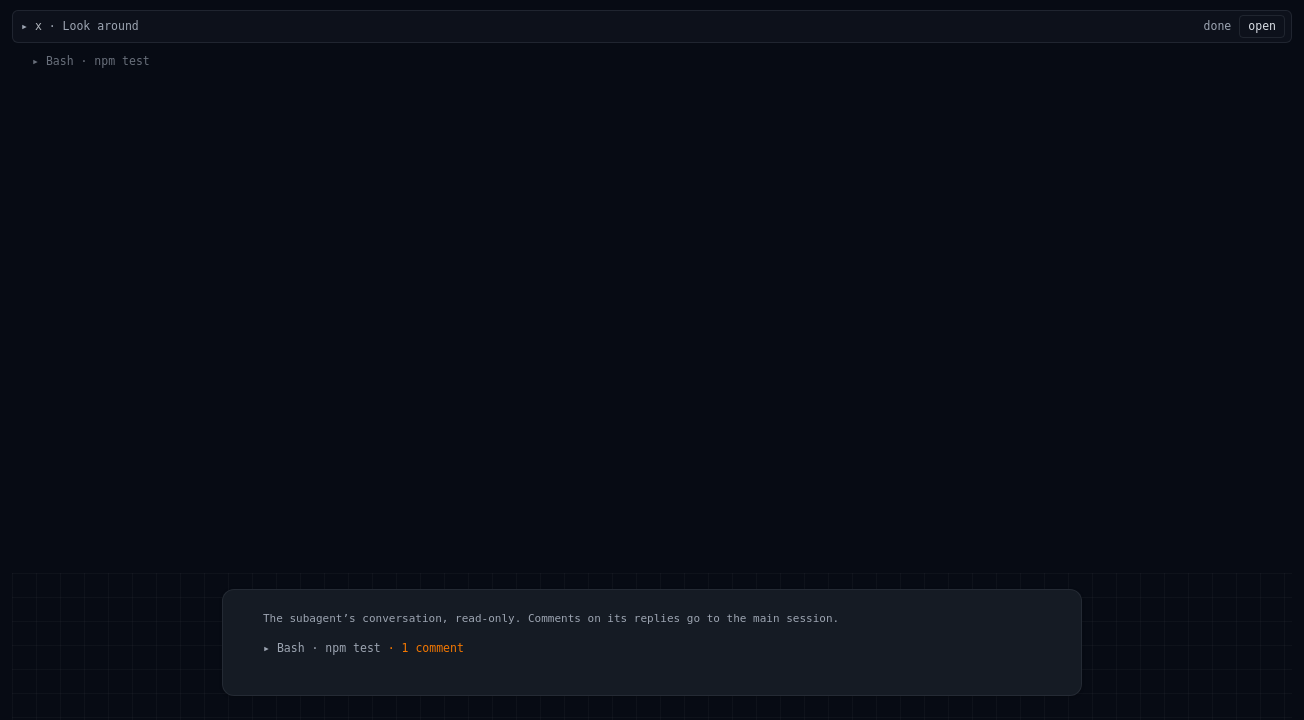
Test case: the same tool id in the chat and in the subagent tab (the SDK forwards a foreground subagent's calls into the main stream) › folding one does not fold the other
Click the button "▸ Bash · npm test · 1 comment" at (343,648), box [263,640,1041,657]
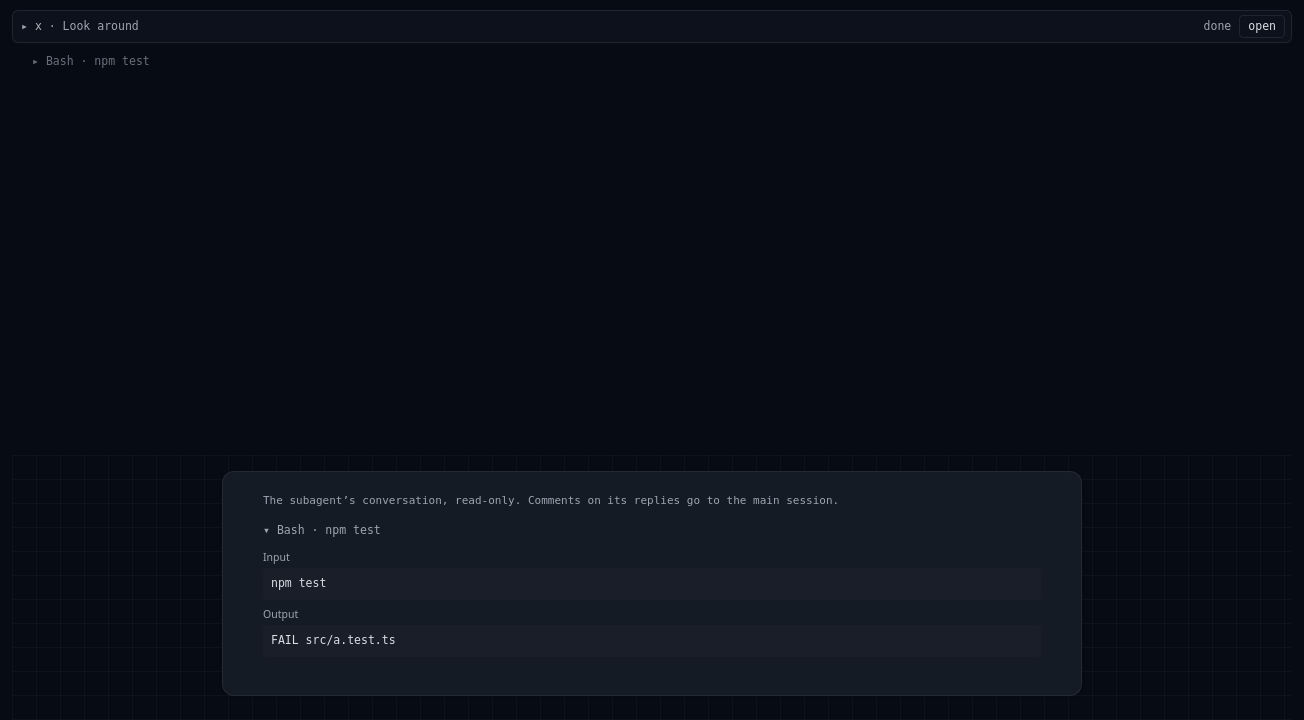
Check: the element showing "Input npm test Output FAIL src/a.test.ts" is shown, box [263,549,1041,657]
